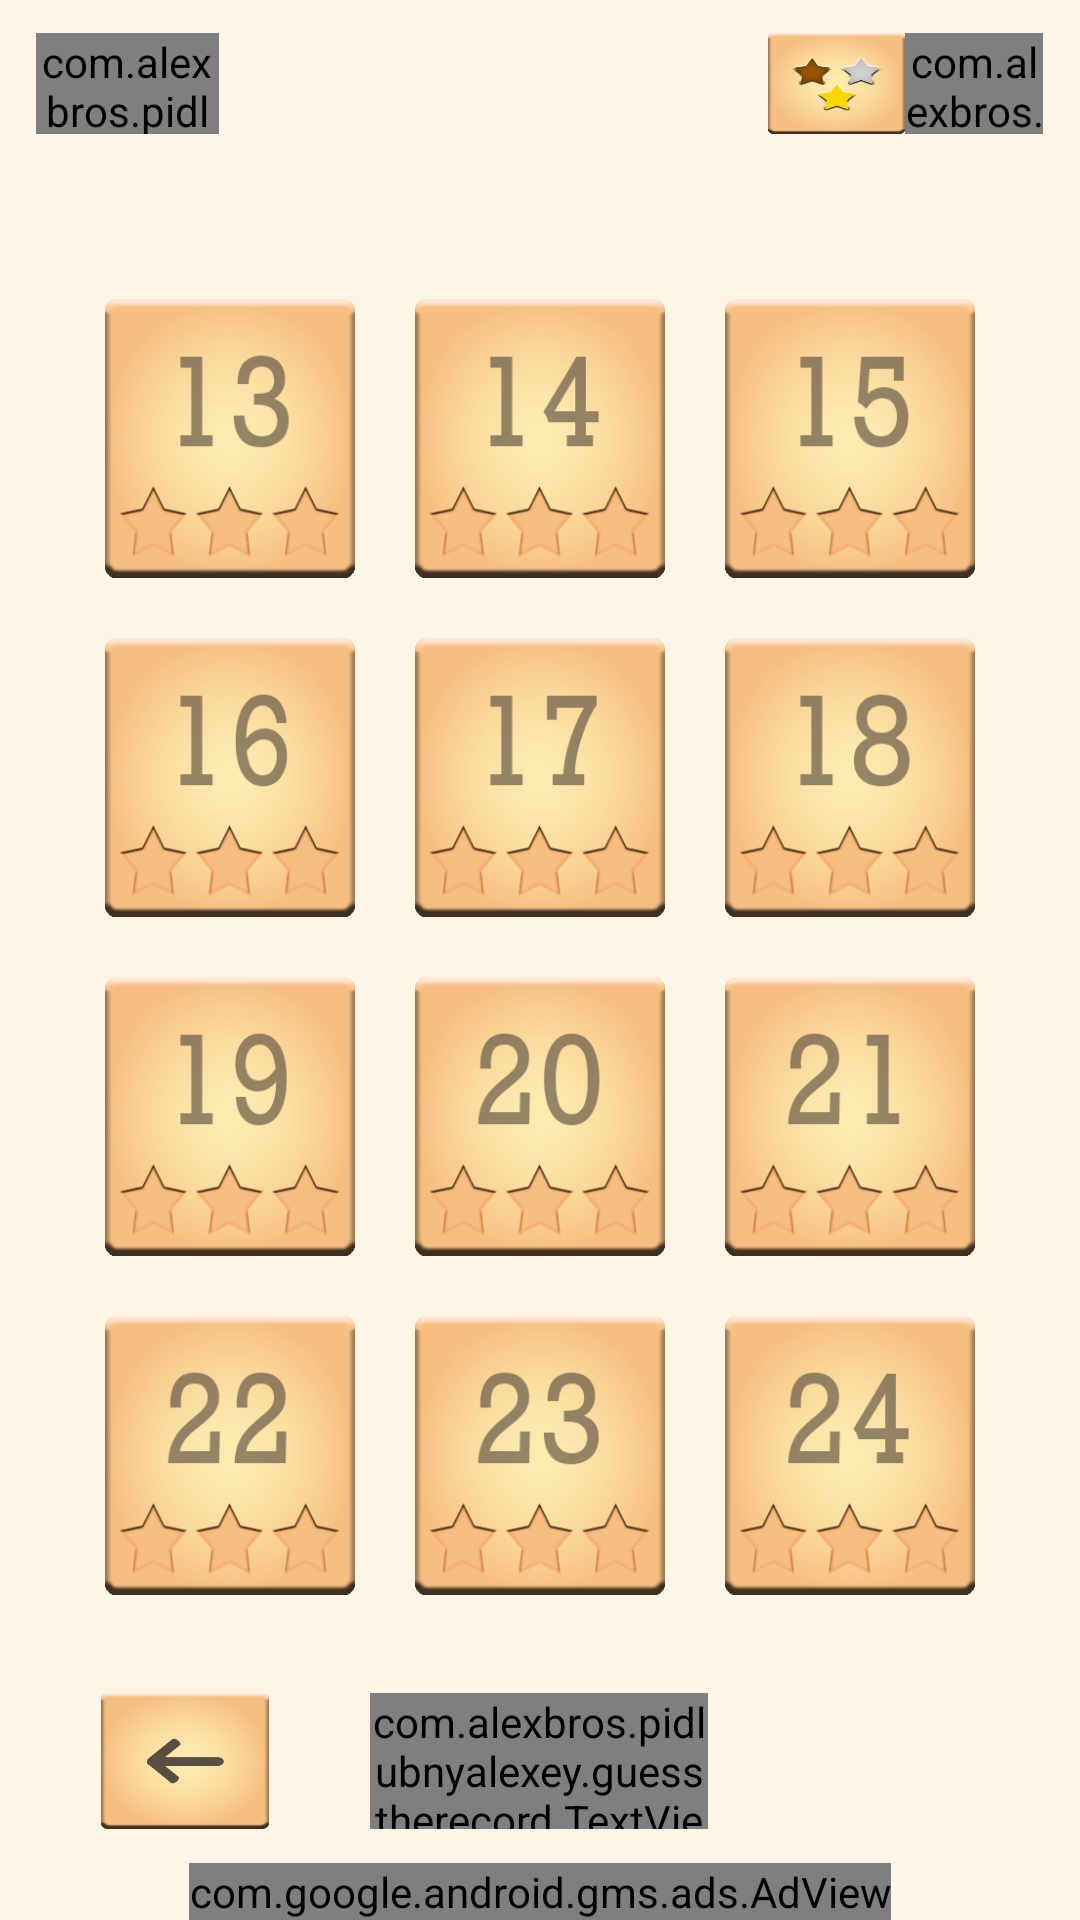

Where to tap for icons on this 1080 x 1920 app screen, as (x,y):
backworld: (185,1761)
stars: (836,84)
